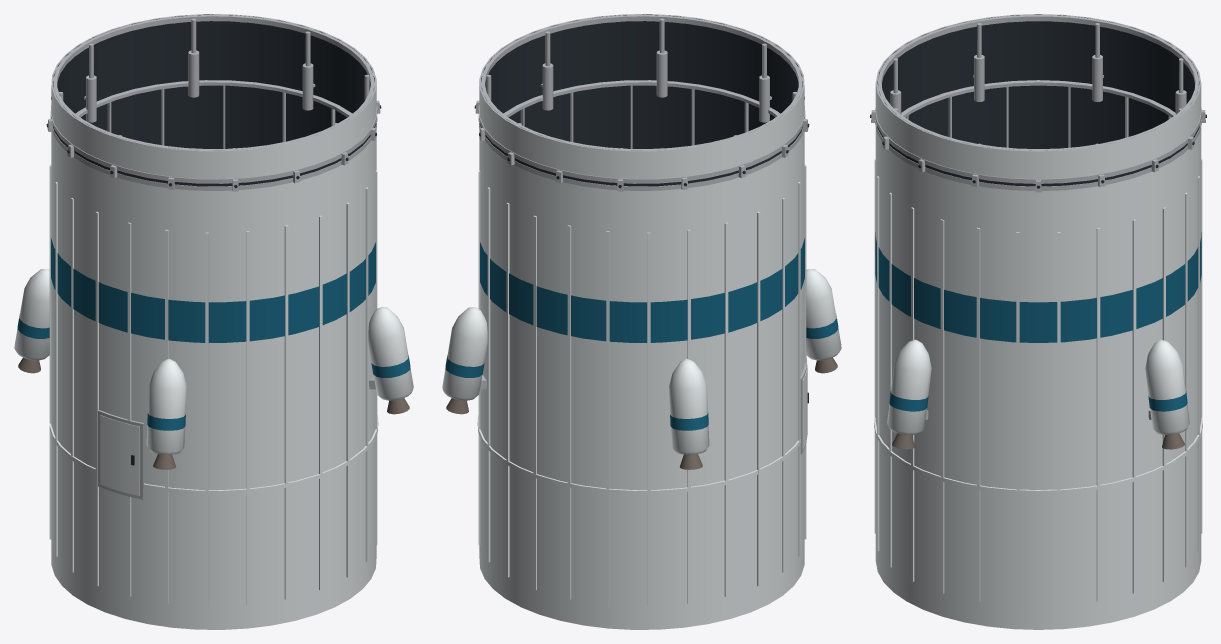
File: interstage_pyro_d37.glb
3 views of the same model, side by side, from view 1: azimuth 30°, elevation 25°; view 2: azimuth 150°, elevation 25°; view 3: azimuth 270°, elevation 25° (orthographic).
Visible parts, largest first — view 1: interstage_pyro_d37_mesh; view 2: interstage_pyro_d37_mesh; view 3: interstage_pyro_d37_mesh.
Boxes of the visible parts, x1,y1,x2,y2 form: interstage_pyro_d37_mesh: (14,14,413,629); interstage_pyro_d37_mesh: (442,14,841,629); interstage_pyro_d37_mesh: (870,14,1206,629).
Size of the model in its own units: 3.83 by 6 by 3.83.
